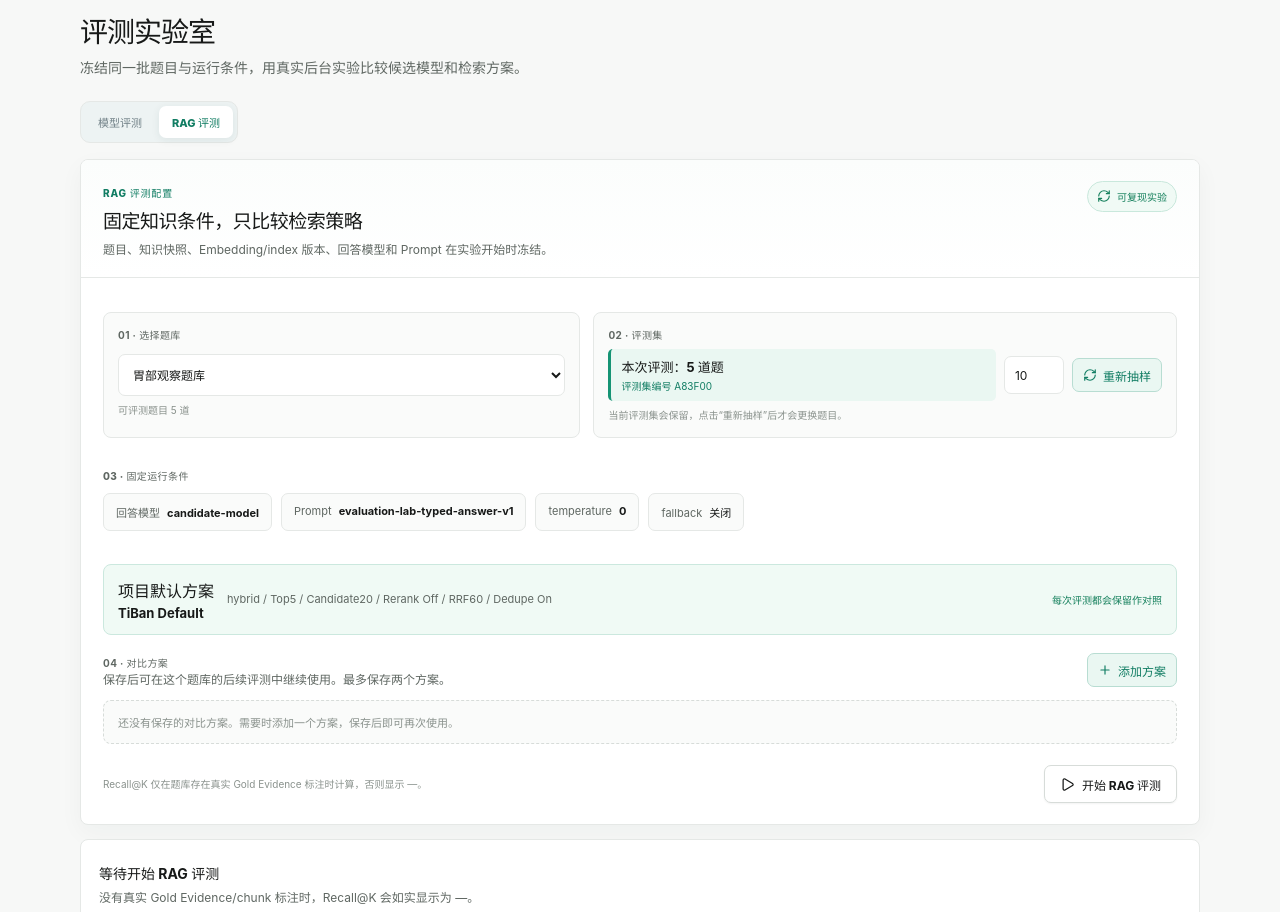
Test: Stage 1 page contracts › persists a RAG comparison profile and marks it saved in the editor
The width and height of the screenshot is (1280, 912).
Click the button "添加方案": [1132, 670] box left=1087, top=653, right=1177, bottom=687
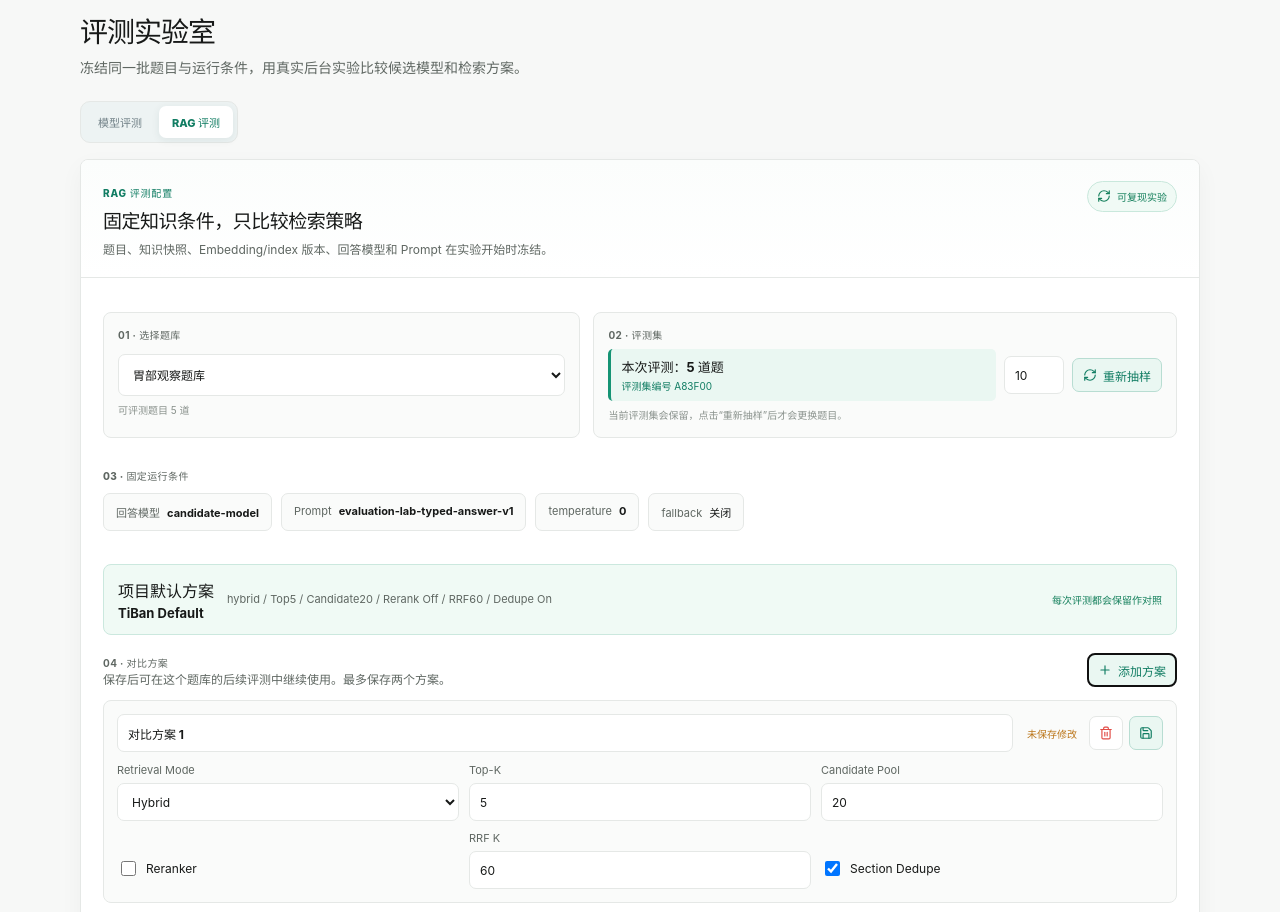
Replace the text in the field named "方案名称" with "低候选池": [565, 733] box left=117, top=714, right=1013, bottom=752
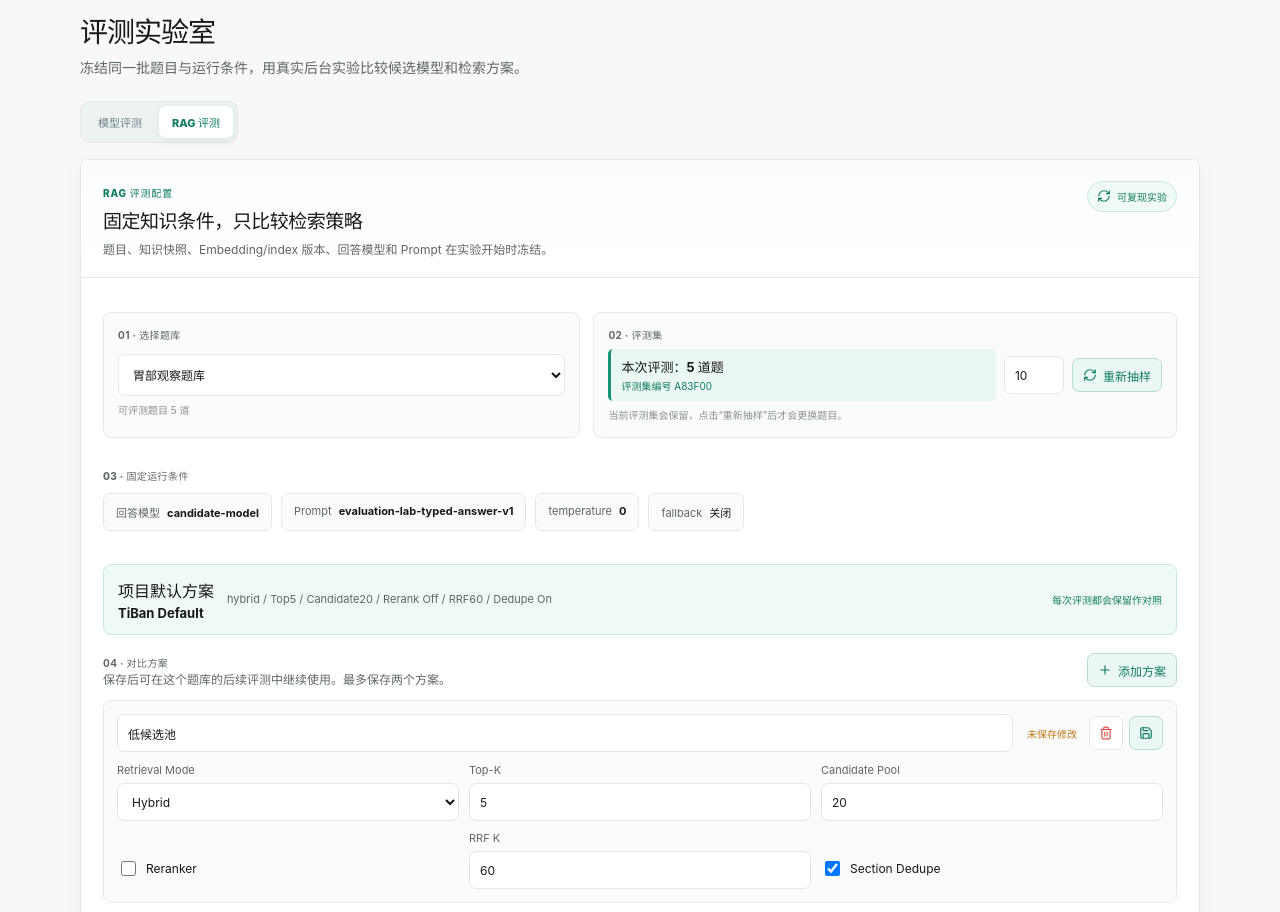
Click the button named "保存方案": [1146, 733] box left=1129, top=716, right=1163, bottom=750
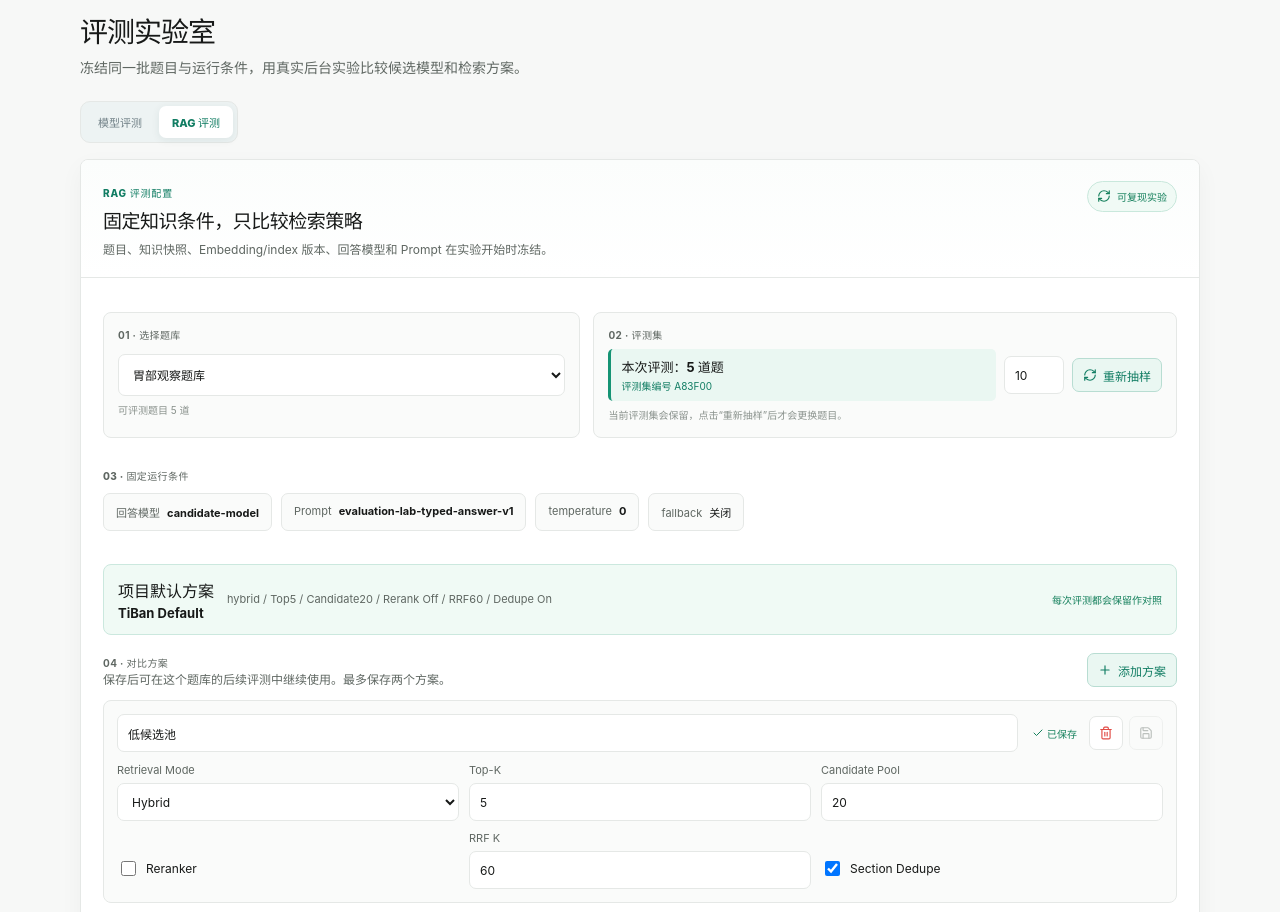
Expected: the text "已保存" is shown, left=1032, top=727, right=1077, bottom=740
